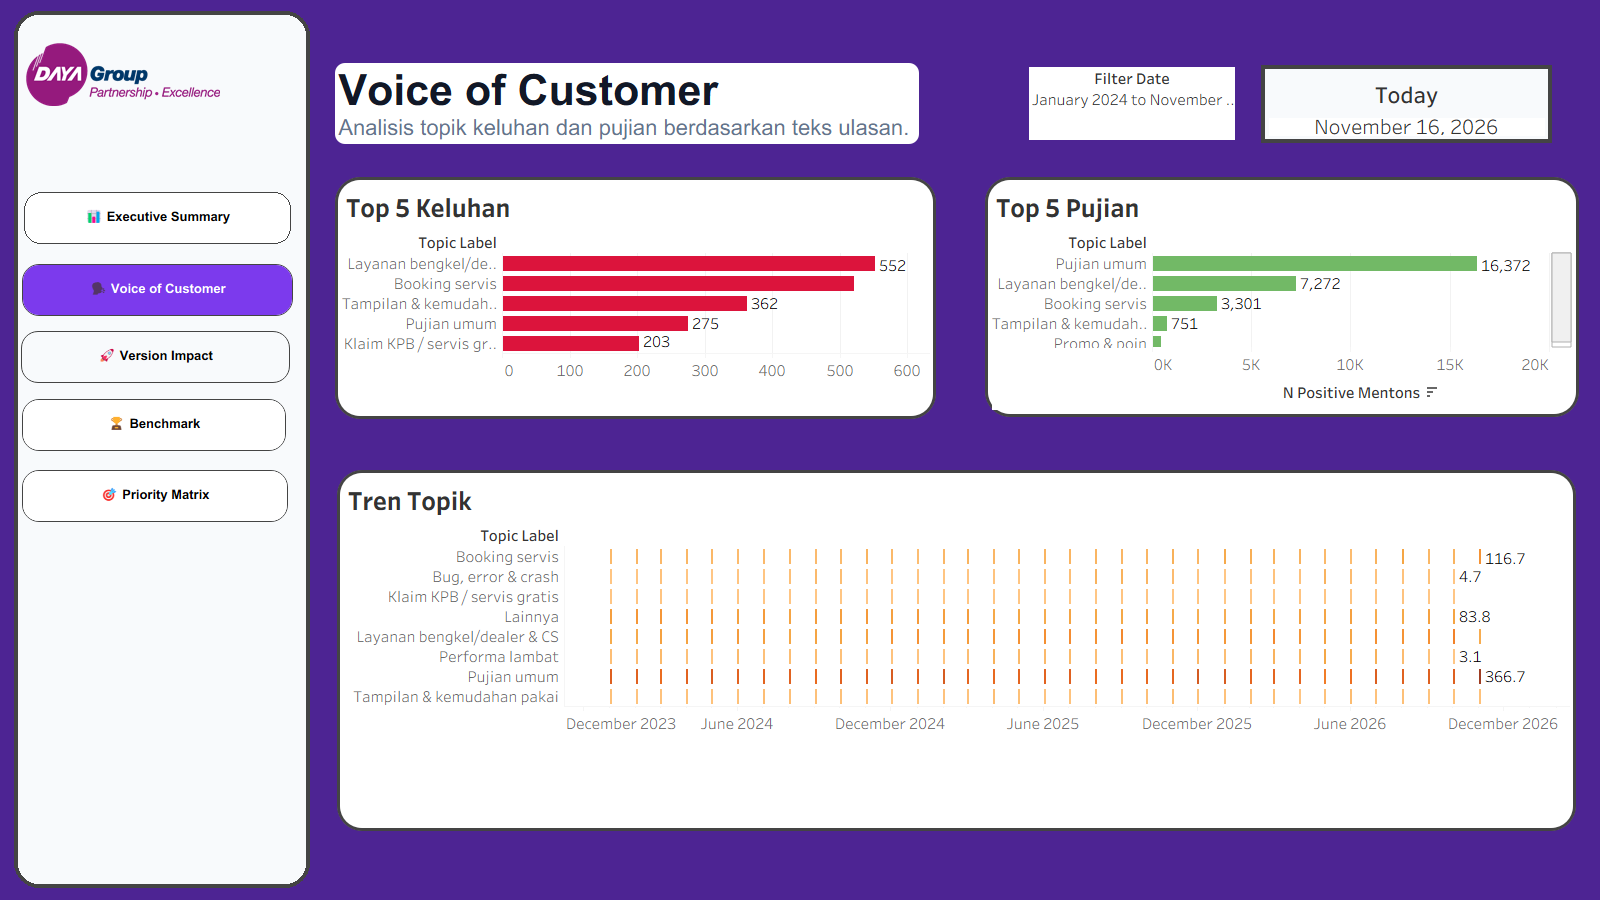

The dashboard page shown, as its layout file describes it:
{"tool":"tableau","page":{"name":"Voice of Customer","canvas":[1600,900],"ordinal":4},"visuals":[{"type":"blank","box":[18.4,15.2,288,868.4]},{"type":"image","param":"C:/Users/hp/Downloads/LOGO-DAYA-GROUP-WEBSITE.png","box":[25.6,42.8,272,63]},{"type":"text","box":[335,63,584,81]},{"type":"filter","title":"Heatmap Tren Topik","param":"[federated.1suynq51iasmjy1akr6nl03c6nyl].[tmn:review_month:qk]","box":[1029,67,206,73]},{"type":"worksheet","title":"Today Card","mark":"Automatic","box":[1265,69,283,70]},{"type":"worksheet","title":"Sheet 16","mark":"Automatic","rows":["topic_label"],"cols":["n_negative_mentions"],"box":[338,180,595,236]},{"type":"worksheet","title":"Sheet 17","mark":"Automatic","rows":["topic_label"],"cols":["Calculation_2057253256364034"],"box":[988,180,588,234]},{"type":"dashboard-object","box":[24,192.4,267.2,51.7]},{"type":"dashboard-object","box":[22.4,264.4,270.4,51.7]},{"type":"dashboard-object","box":[20.8,330.8,268.8,51.7]},{"type":"dashboard-object","box":[22.4,399.4,264,51.7]},{"type":"dashboard-object","box":[22.4,470.2,265.6,51.7]},{"type":"worksheet","title":"Heatmap Tren Topik","mark":"Automatic","rows":["topic_label"],"cols":["review_month"],"box":[340,473,1233,326]}]}

Visuals, with their boxes in screenshot pixels (x1, y1, x2, y2), scaled from the page's 1600x900 canvas onto the 1600x900 screenshot:
blank: 18:15:306:884
image: 26:43:298:106
text: 335:63:919:144
"Heatmap Tren Topik" filter: 1029:67:1235:140
"Today Card" worksheet: 1265:69:1548:139
"Sheet 16" worksheet: 338:180:933:416
"Sheet 17" worksheet: 988:180:1576:414
dashboard-object: 24:192:291:244
dashboard-object: 22:264:293:316
dashboard-object: 21:331:290:382
dashboard-object: 22:399:286:451
dashboard-object: 22:470:288:522
"Heatmap Tren Topik" worksheet: 340:473:1573:799
